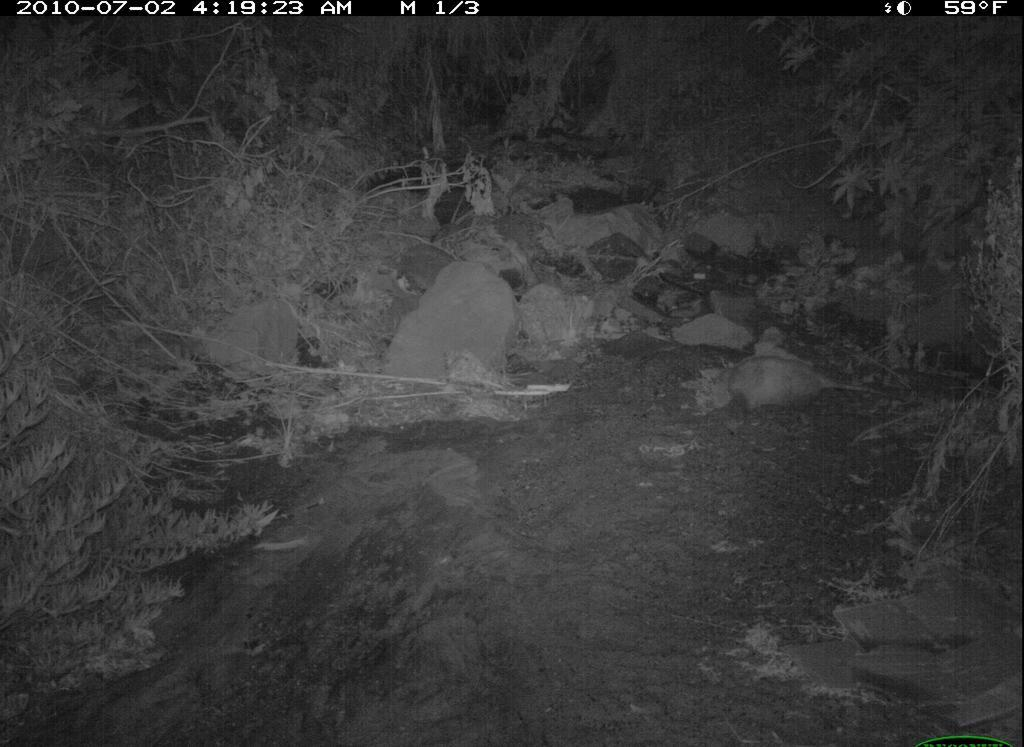opossum: (717, 345, 907, 432)
